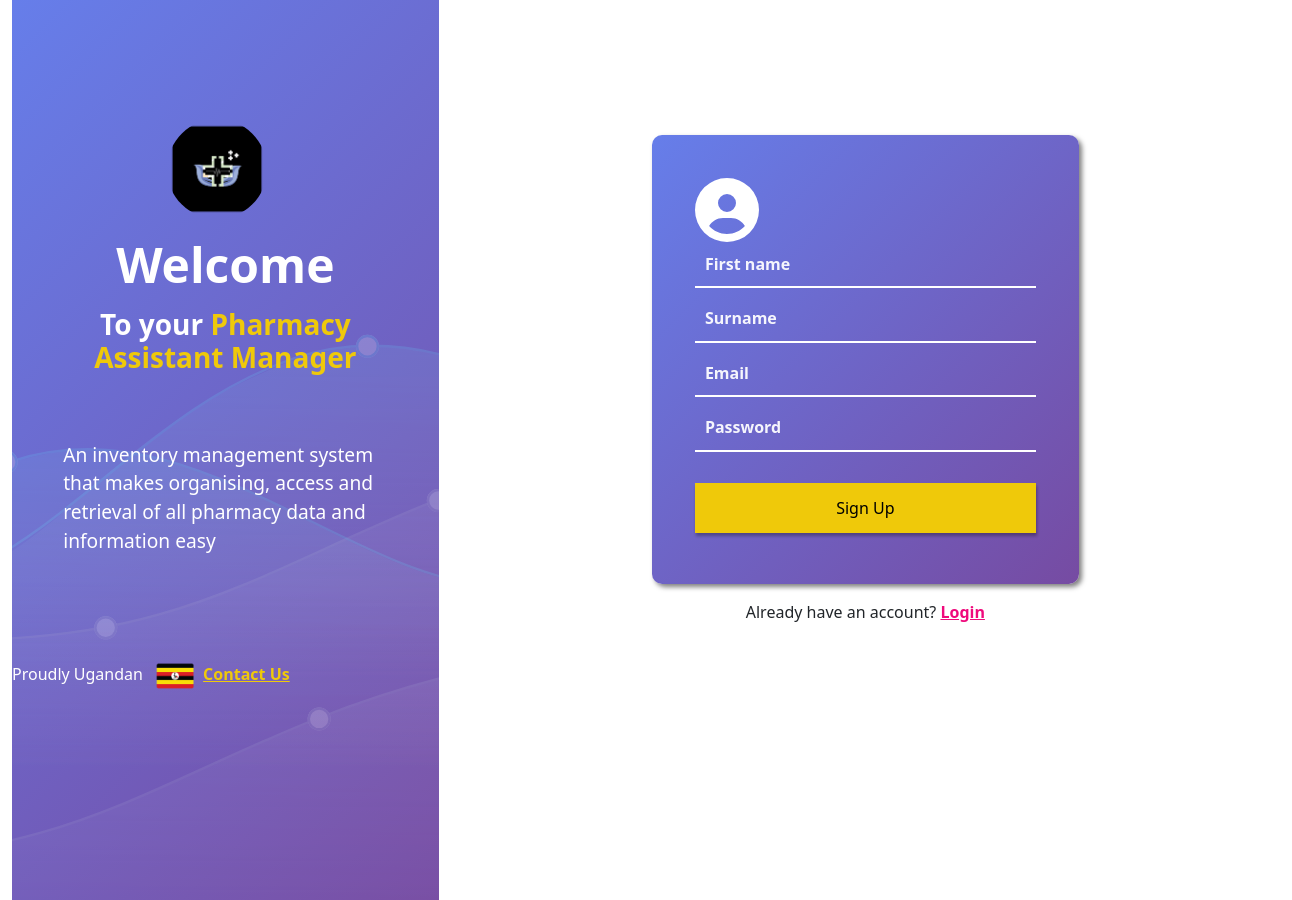
Test: Testing the Signup and Login divs › Show login form when login link is clicked
Step 1. Click the link with test id "login-link" → (963, 612), box [940,601,985,623]
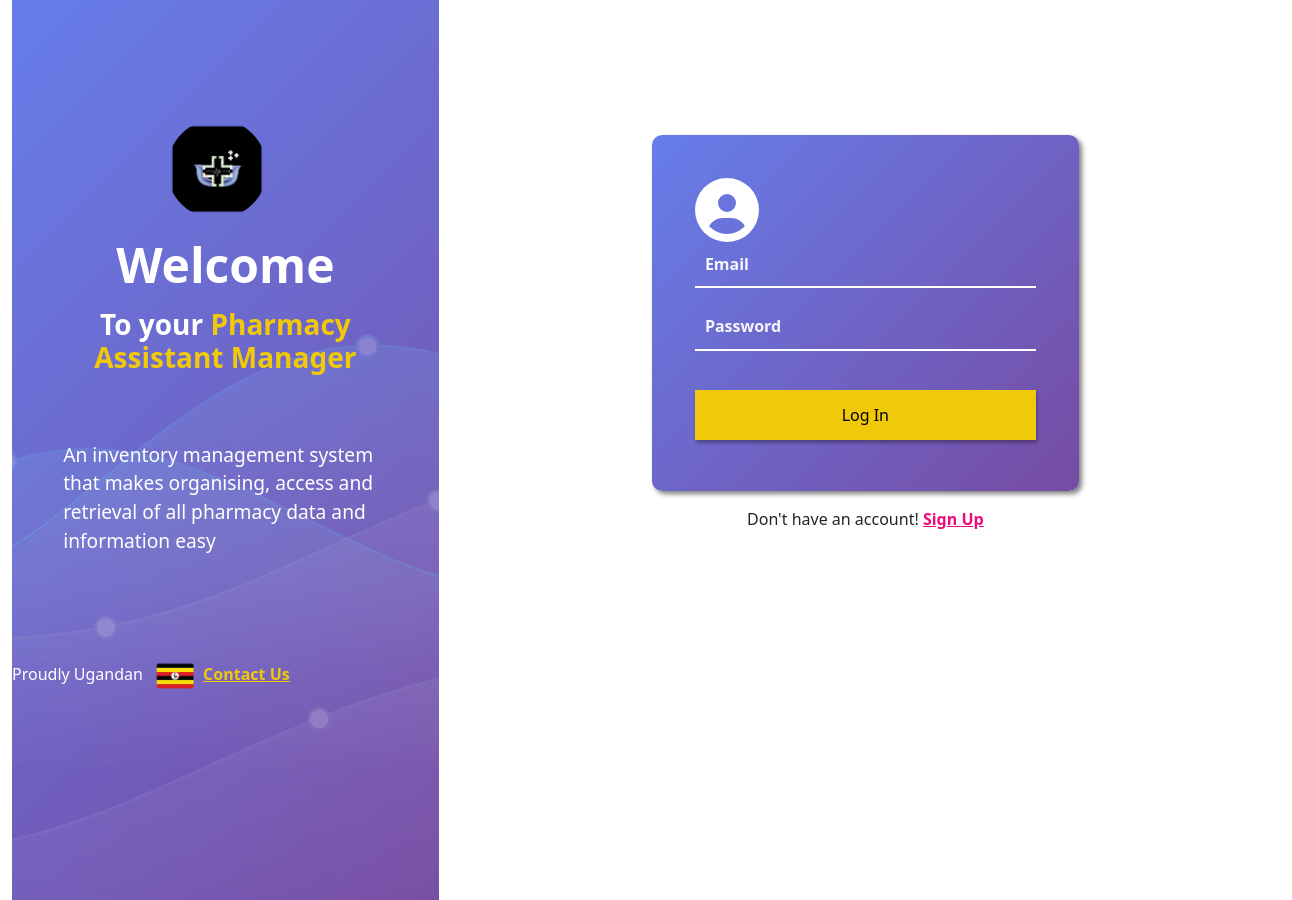
Expected: the element with test id "login-div" is shown, [652,135,1079,491]
Expected: the element with test id "signup-div" is gone
